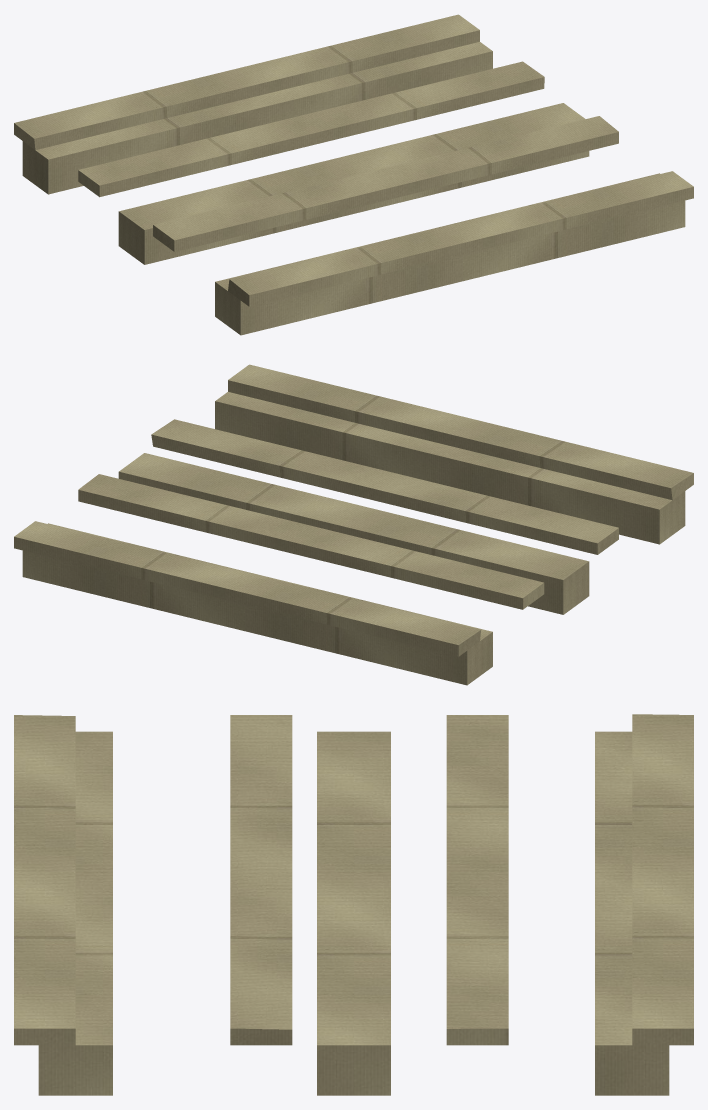
Rendered from pallet_v1.glb.
3 renders of one model, top to bottom at view 1: azimuth 30°, elevation 25°; view 2: azimuth 150°, elevation 25°; view 3: azimuth 270°, elevation 25°, orthographic. The views are drawn at different scales.
Parts seen in each view (by area): view 1: Variant_pallet_1; view 2: Variant_pallet_1; view 3: Variant_pallet_1.
Boxes of the visible parts, x1,y1,x2,y2 form: Variant_pallet_1: (14, 14, 693, 335); Variant_pallet_1: (14, 364, 693, 685); Variant_pallet_1: (14, 714, 693, 1095).
Size of the model in its own units: 1.21 by 0.12 by 1.1.
Materials: 1 (1 with a texture image).
